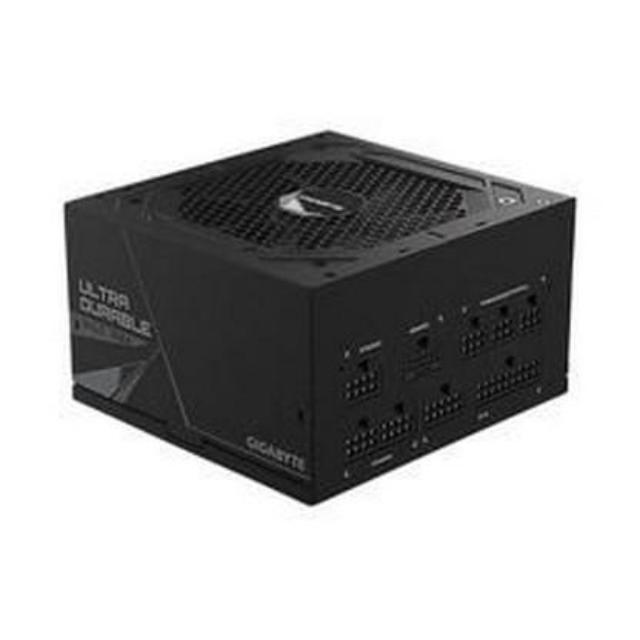PSU: (48, 115, 592, 517)
